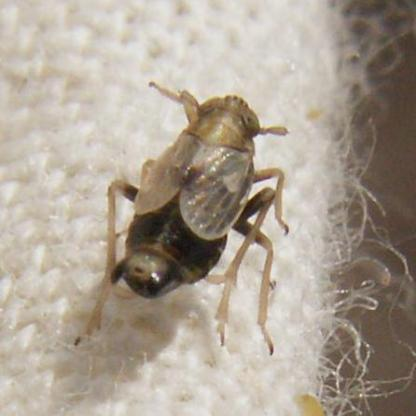brown-planthopper: (118, 73, 277, 314)
